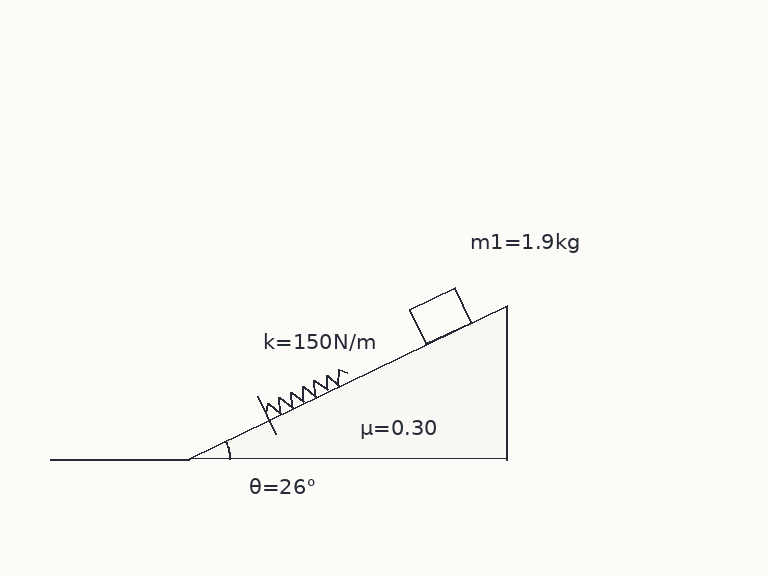block: (407, 286, 474, 346)
ramp: (188, 303, 508, 461)
spring: (263, 367, 349, 415)
